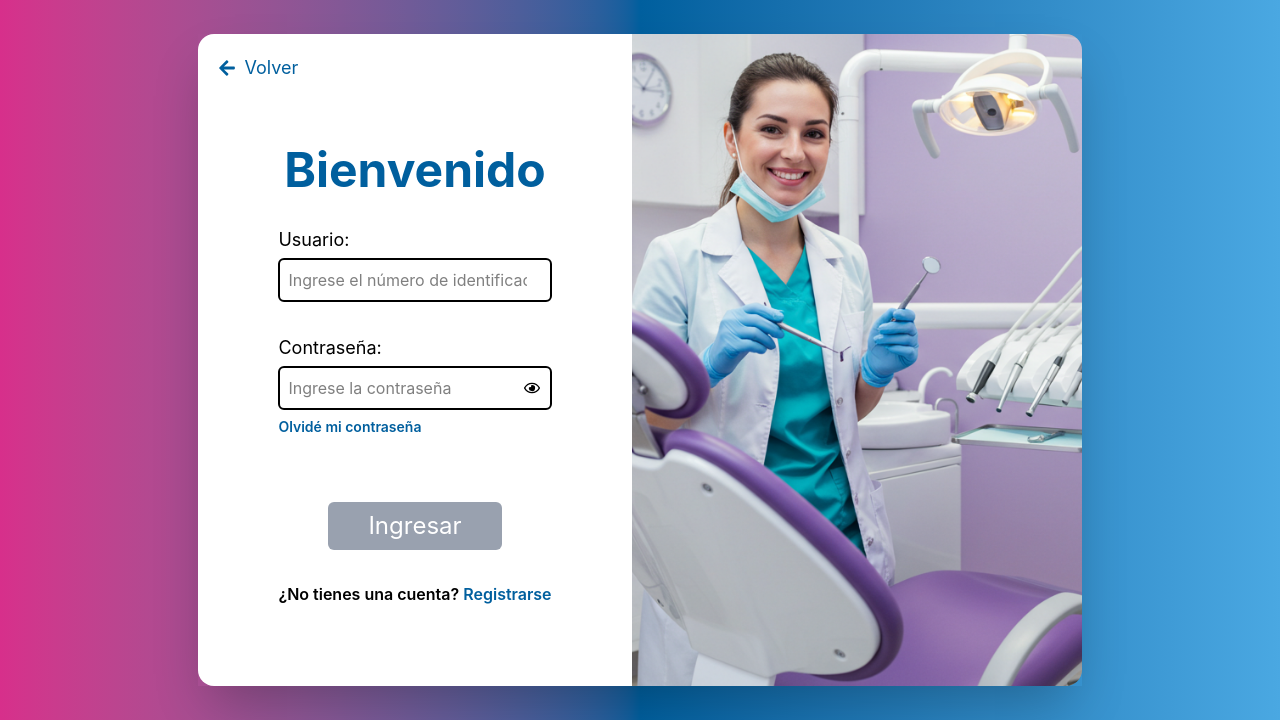
it: Prueba de Login con backend real (Usuario no existente) › Debería mostrar un mensaje de error cuando el usuario no exista
The width and height of the screenshot is (1280, 720).
Type "0000000000" into the number field with placeholder "Ingrese el número de identificación" at (415, 280), box [278,258,551,302]
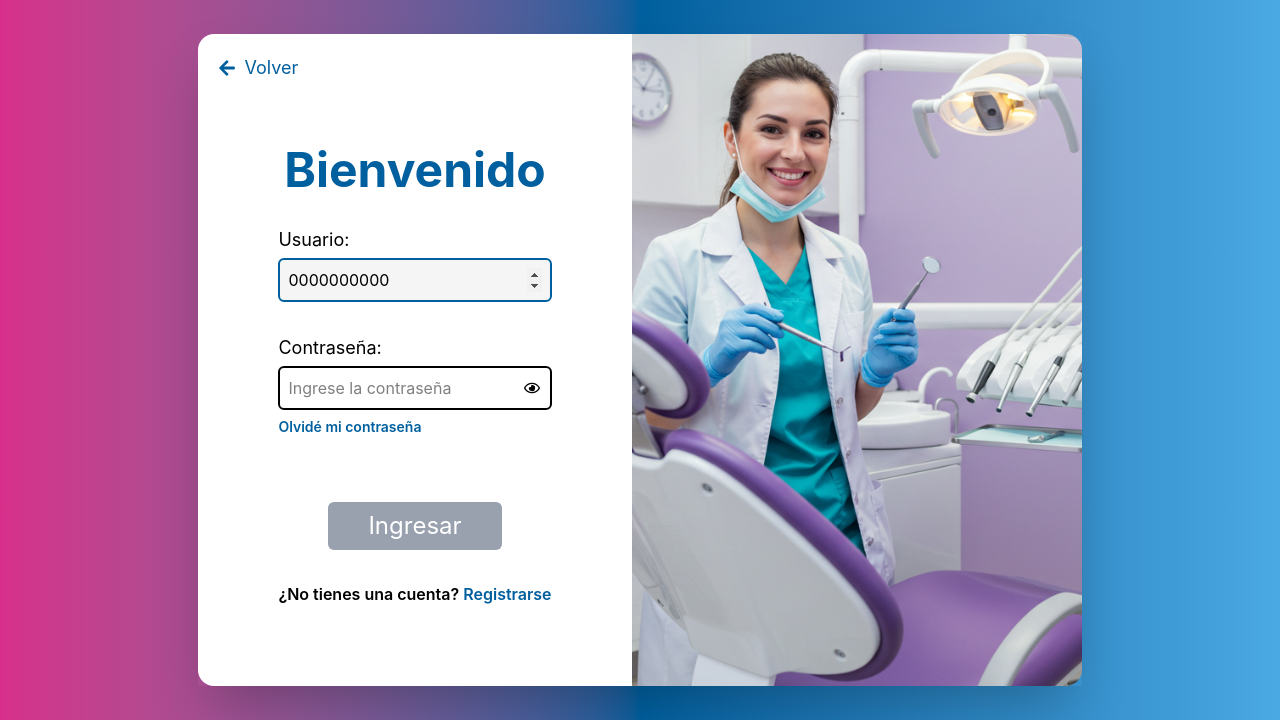
Type "C@ntraseña123" into the password field with placeholder "Ingrese la contraseña" at (415, 388), box [278,366,551,410]
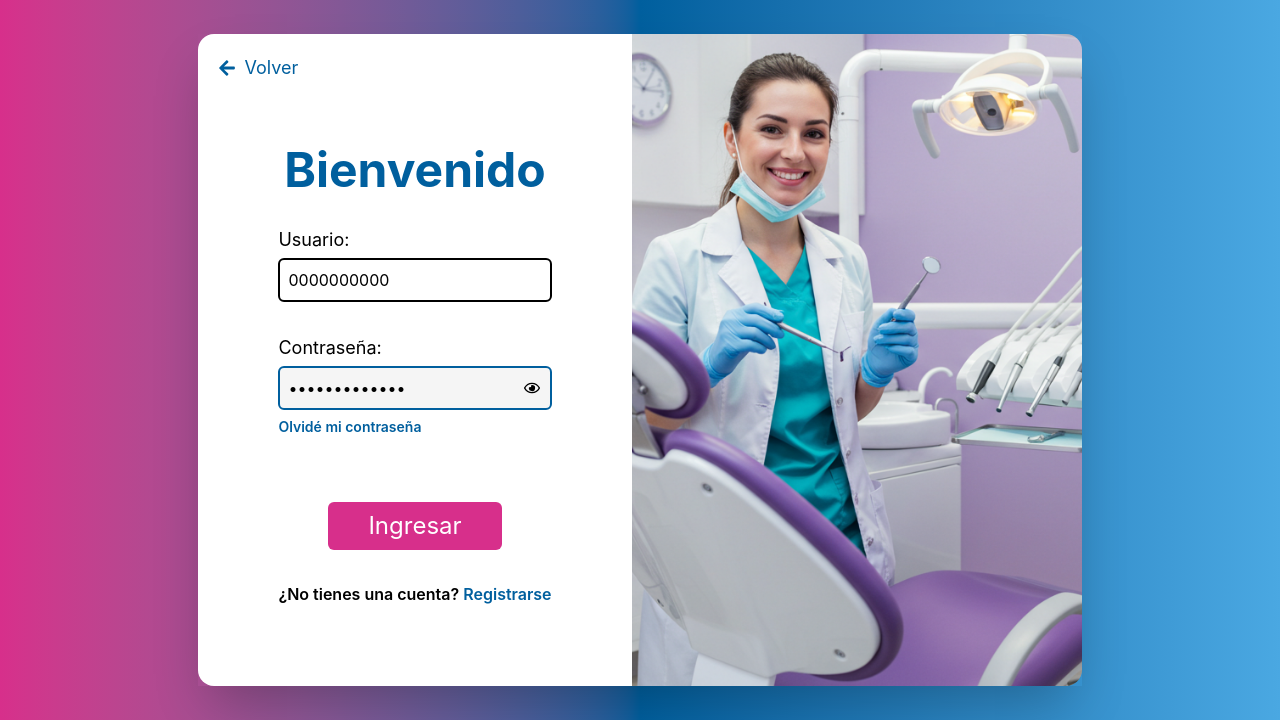
Click the button "Ingresar" at (415, 526), box [328,502,501,550]
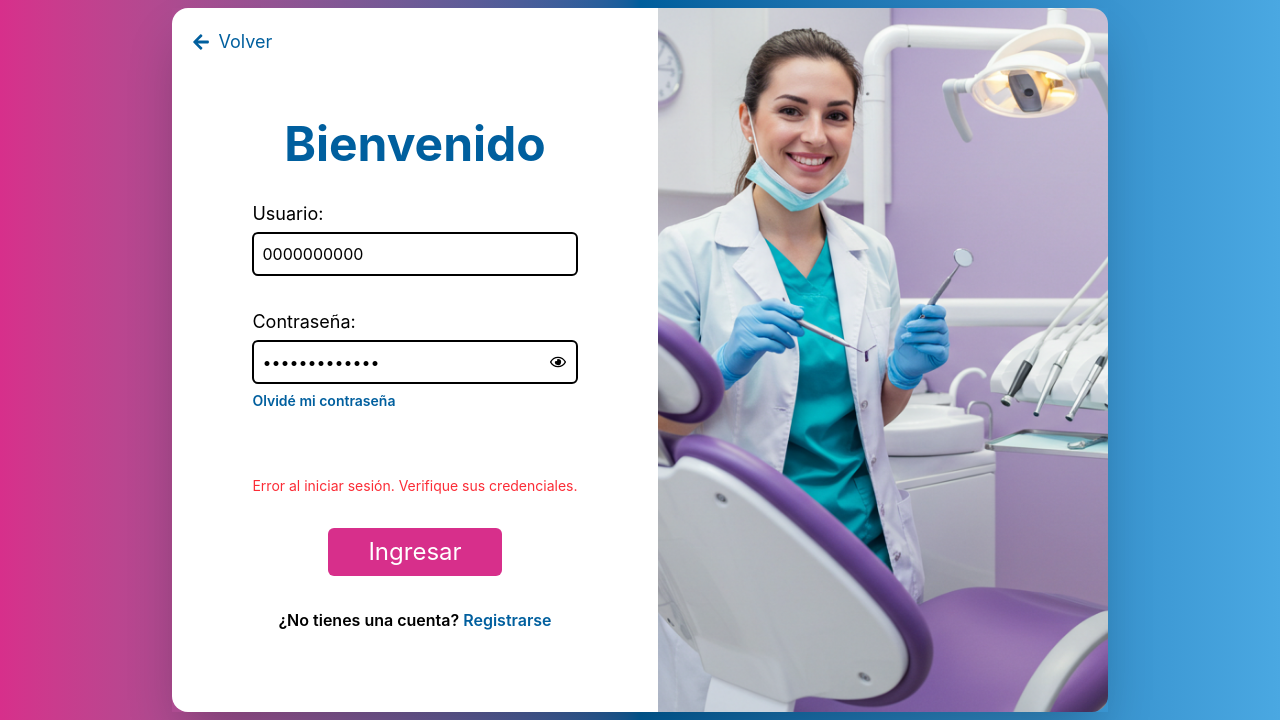
Check: the text "Error al iniciar sesión. Verifique sus credenciales." is shown, box [252,476,578,496]
